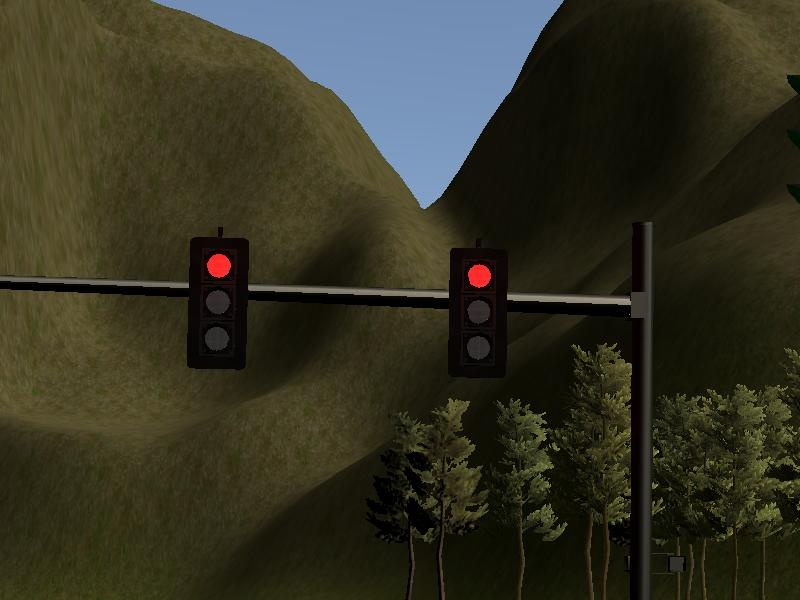red: (185, 231, 250, 377), (447, 244, 508, 385)
